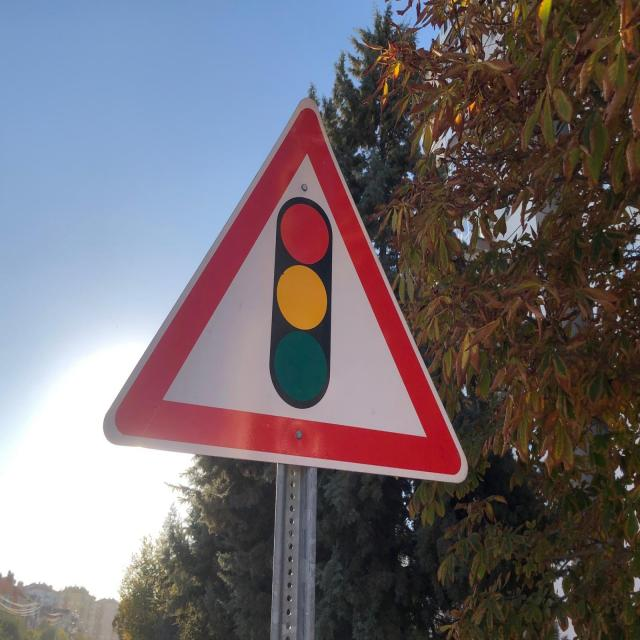light_traffic: (100, 96, 472, 489)
